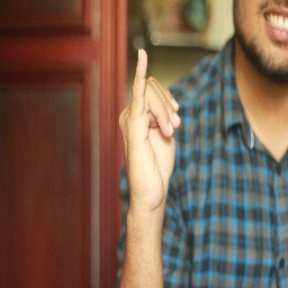I: (116, 47, 184, 210)
